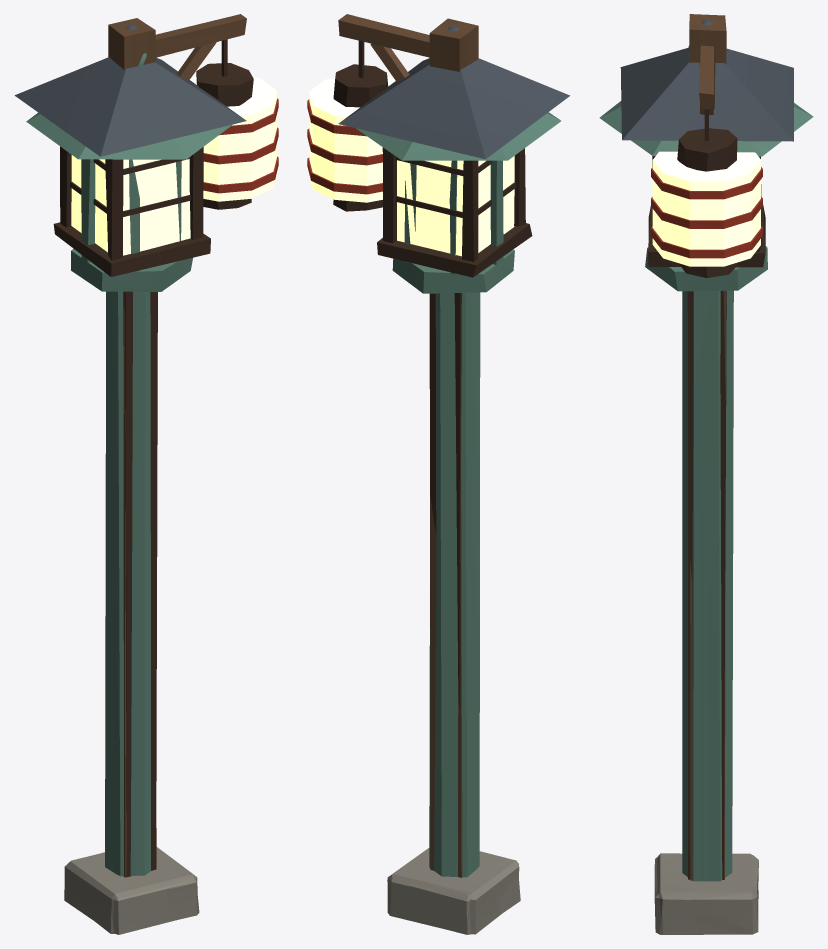
The model's file is lamp.glb.
3 views of the same model, side by side, from view 1: azimuth 30°, elevation 25°; view 2: azimuth 150°, elevation 25°; view 3: azimuth 270°, elevation 25° (orthographic).
Parts seen in each view (by area): view 1: lamp.v0.mesh, lamp.v2.mesh, lamp.v1.mesh; view 2: lamp.v2.mesh, lamp.v0.mesh, lamp.v1.mesh; view 3: lamp.v2.mesh, lamp.v1.mesh, lamp.v0.mesh.
Boxes of the visible parts, left/top/right/bottom form: lamp.v0.mesh: left=14, top=24, right=246, bottom=934; lamp.v2.mesh: left=26, top=53, right=232, bottom=933; lamp.v1.mesh: left=64, top=14, right=278, bottom=921; lamp.v2.mesh: left=356, top=112, right=560, bottom=929; lamp.v0.mesh: left=338, top=25, right=569, bottom=934; lamp.v1.mesh: left=307, top=14, right=519, bottom=934; lamp.v2.mesh: left=599, top=45, right=813, bottom=934; lamp.v1.mesh: left=651, top=14, right=762, bottom=934; lamp.v0.mesh: left=620, top=19, right=793, bottom=934.
Size of the model in its own units: 0.7089 by 2.73 by 0.5935.
